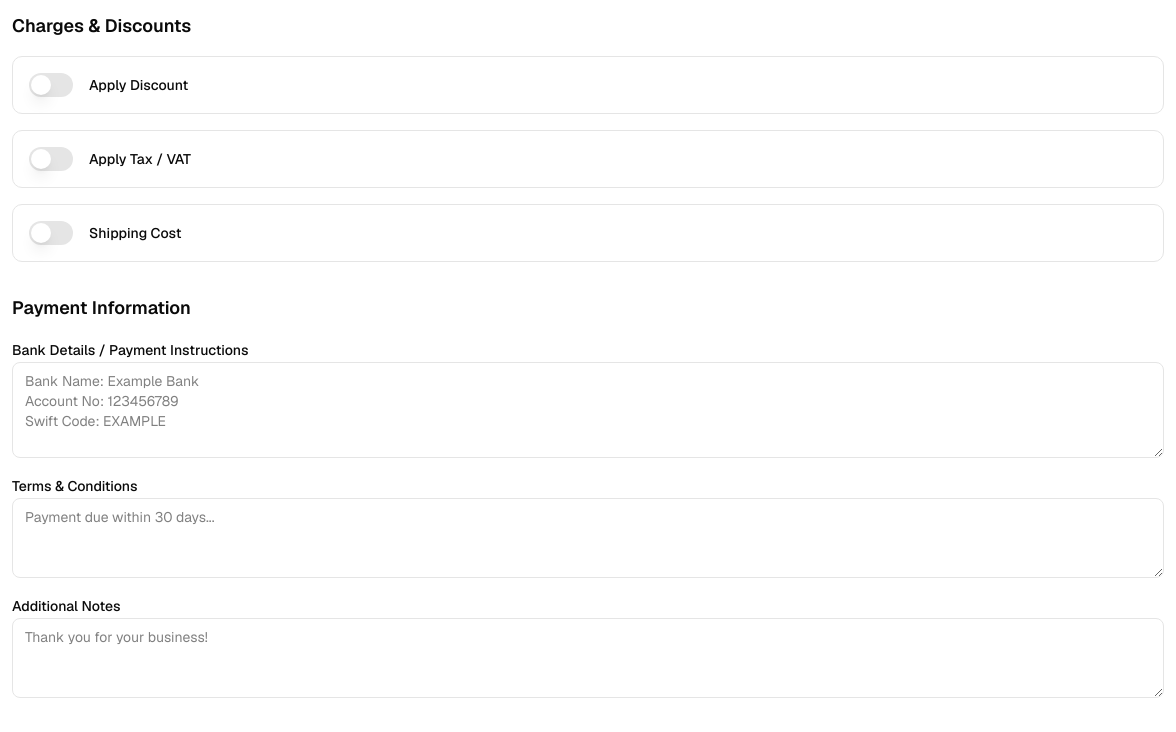
Test: PaymentForm › shows tax and shipping inputs with their placeholders
Step 1. Click the switch next to "Apply Tax / VAT" → click(51, 159), box x1=29 y1=147 x2=73 y2=171
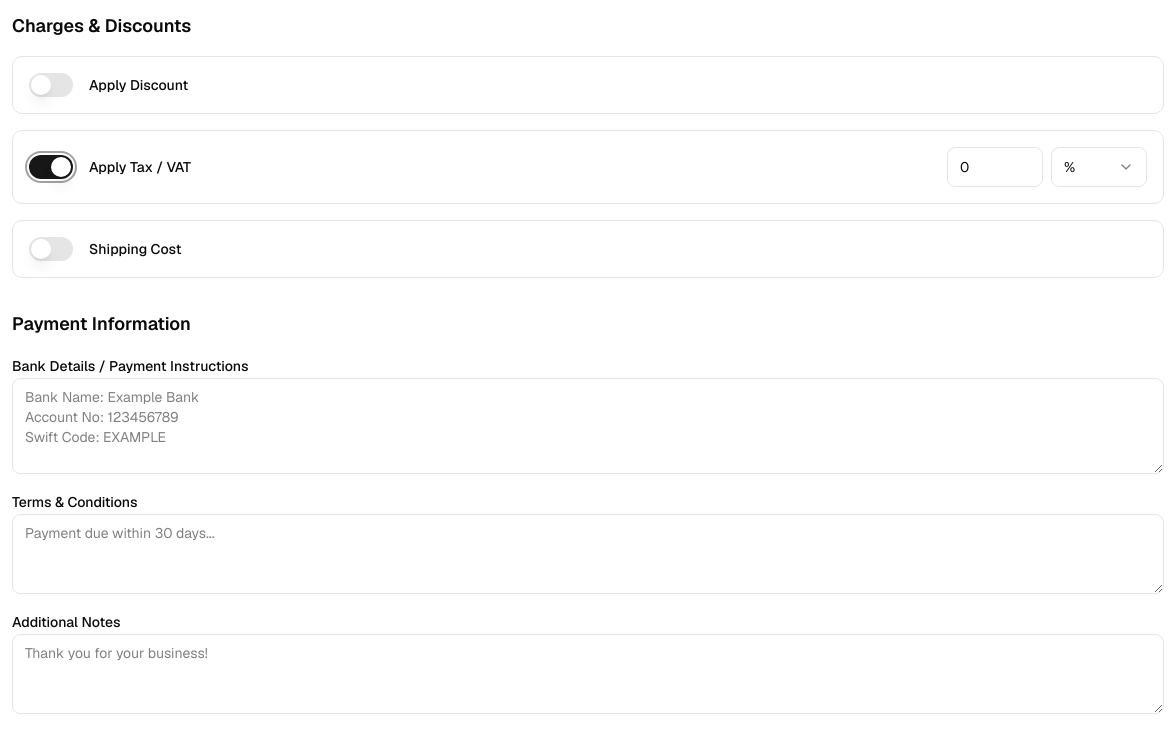
Step 2. Click the switch next to "Shipping Cost" → click(51, 249), box x1=29 y1=237 x2=73 y2=261
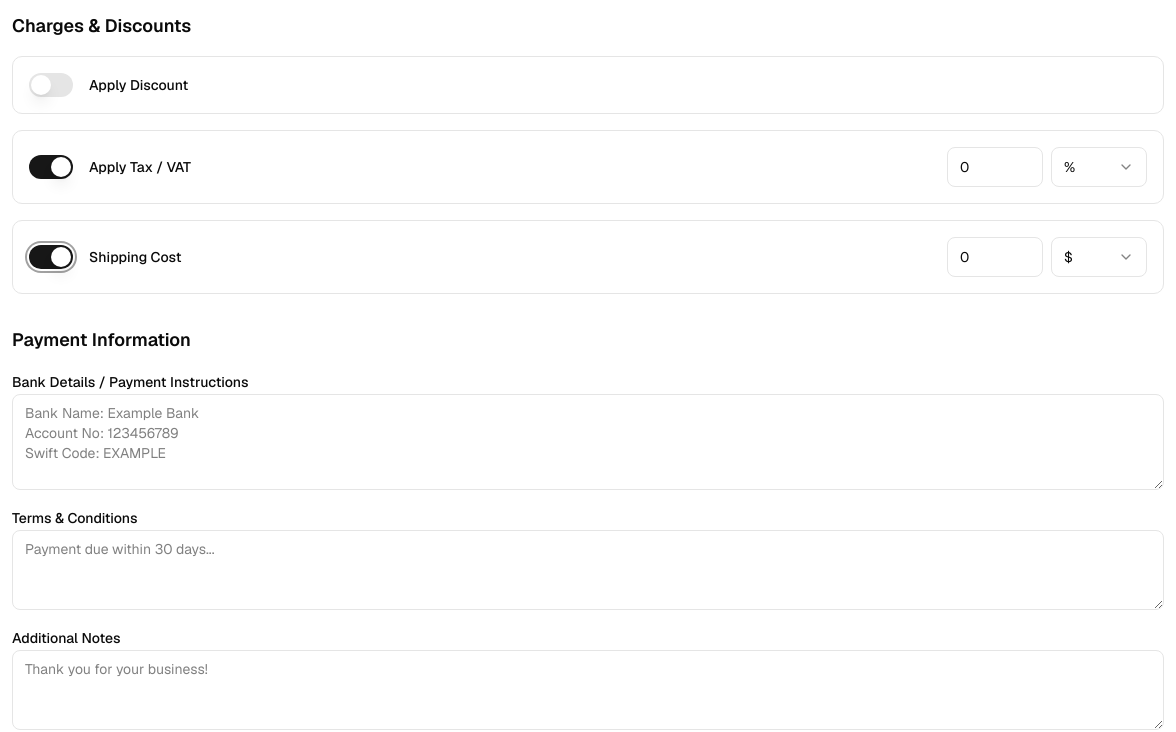
Expected: the number field with placeholder "%" in the row of "Apply Tax / VAT" is shown, x1=947 y1=147 x2=1043 y2=187
Expected: the number field with placeholder "$" in the row of "Shipping Cost" is shown, x1=947 y1=237 x2=1043 y2=277
